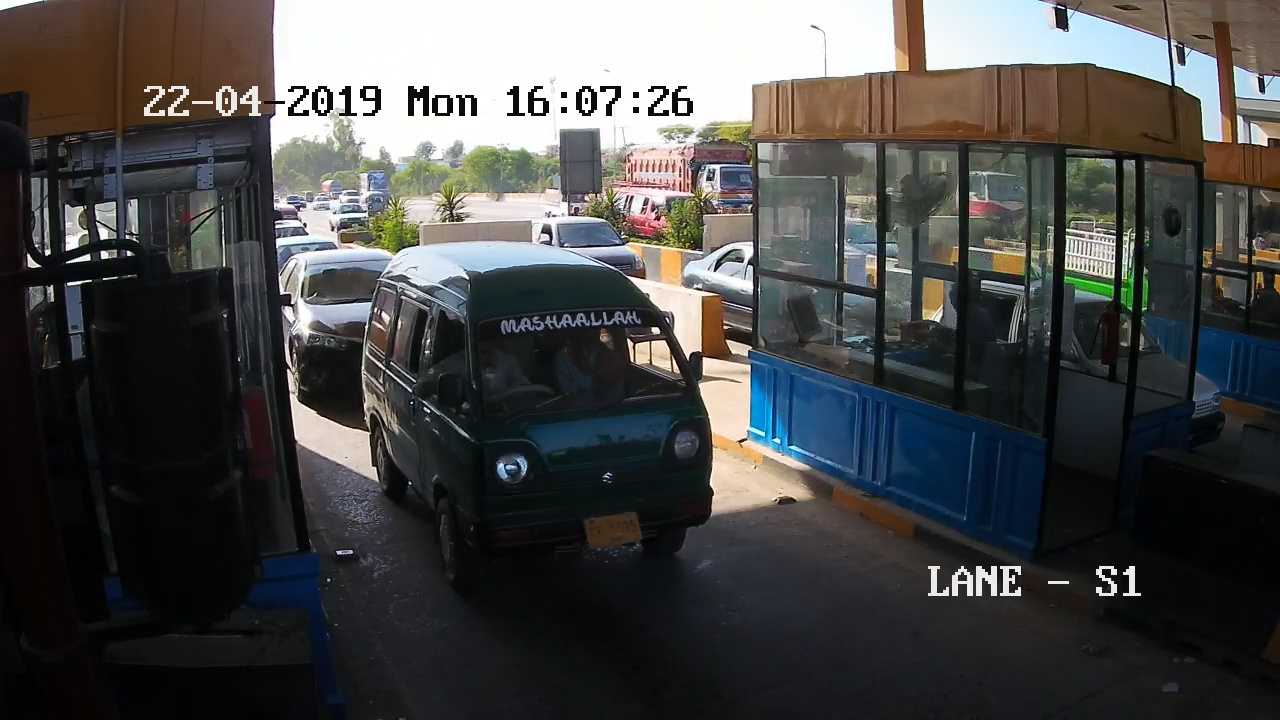Number Plate (Car): (580, 517, 646, 545)
